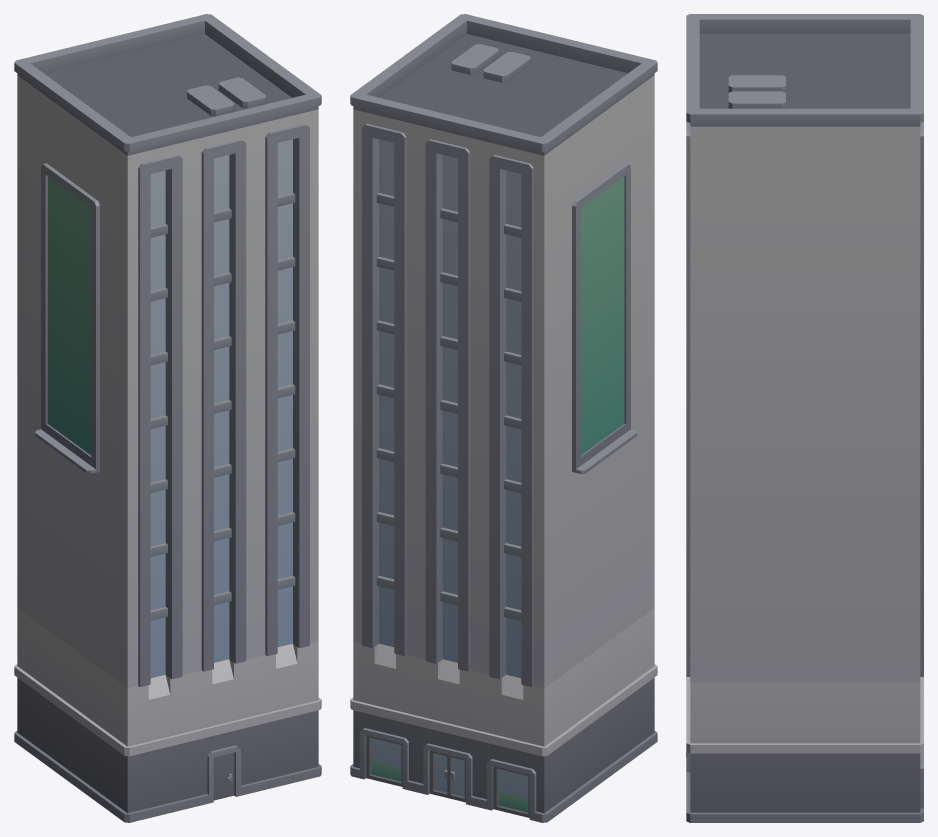
The model's file is tower-c.glb.
3 views of the same model, side by side, from view 1: azimuth 30°, elevation 25°; view 2: azimuth 150°, elevation 25°; view 3: azimuth 270°, elevation 25° (orthographic). The views are drawn at different scales.
Visible parts, largest first — view 1: tower-c; view 2: tower-c; view 3: tower-c.
Part boxes in pixels (bbox=[...]): tower-c: bbox=[14, 14, 321, 822]; tower-c: bbox=[350, 14, 657, 822]; tower-c: bbox=[686, 14, 923, 822].
Bounding box in the file's own units: 1.29 × 4.08 × 1.24.
